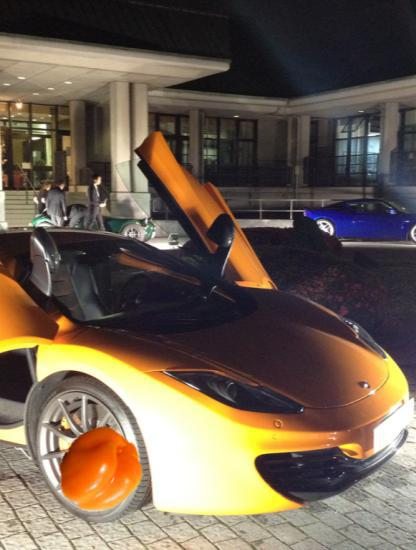Pepper: (57, 427, 145, 515)
